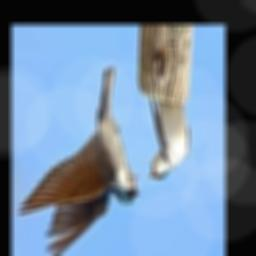Swallow: (18, 64, 140, 256), (150, 98, 190, 180)
